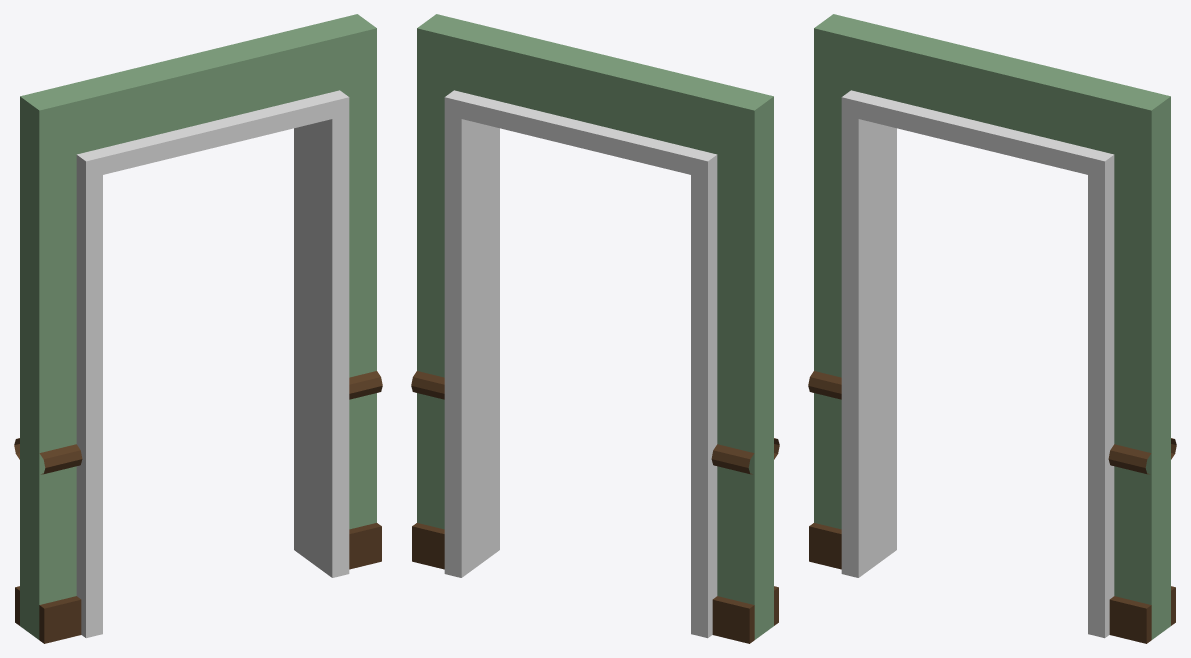
The model's file is h_wall_2_doorFrame.fbx.
3 renders of one model, left to right at view 1: azimuth 30°, elevation 25°; view 2: azimuth 150°, elevation 25°; view 3: azimuth 330°, elevation 25°, orthographic.
Parts seen in each view (by area): view 1: Cube, DoorFrame; view 2: Cube, DoorFrame; view 3: Cube, DoorFrame.
Boxes of the visible parts, x1,y1,x2,y2 form: Cube: (14,14,382,643); DoorFrame: (76,90,349,638); Cube: (411,14,779,643); DoorFrame: (444,90,717,638); Cube: (808,14,1176,643); DoorFrame: (841,90,1114,638).
Size of the model in its own units: 200 by 300 by 39.37.
